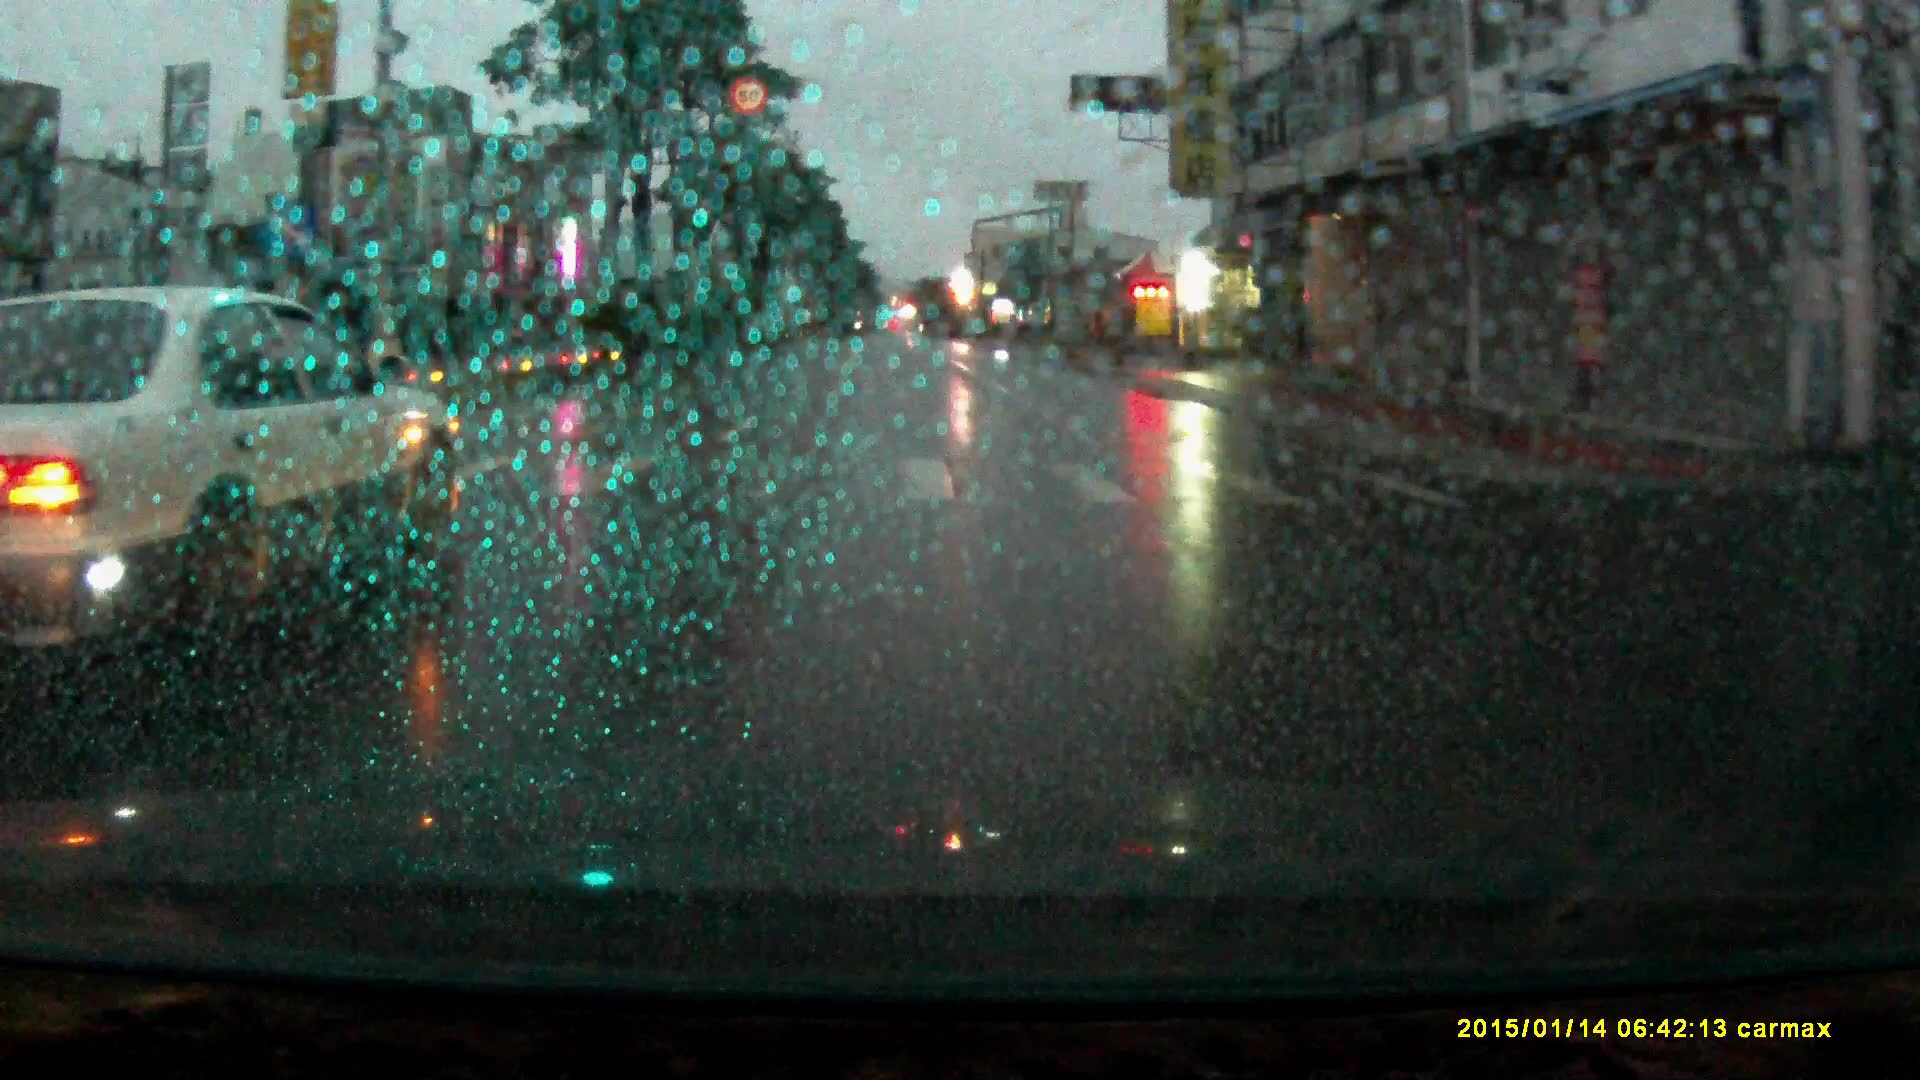vehicle: (1, 287, 473, 657)
